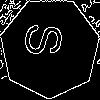S: (25, 22, 71, 57)
